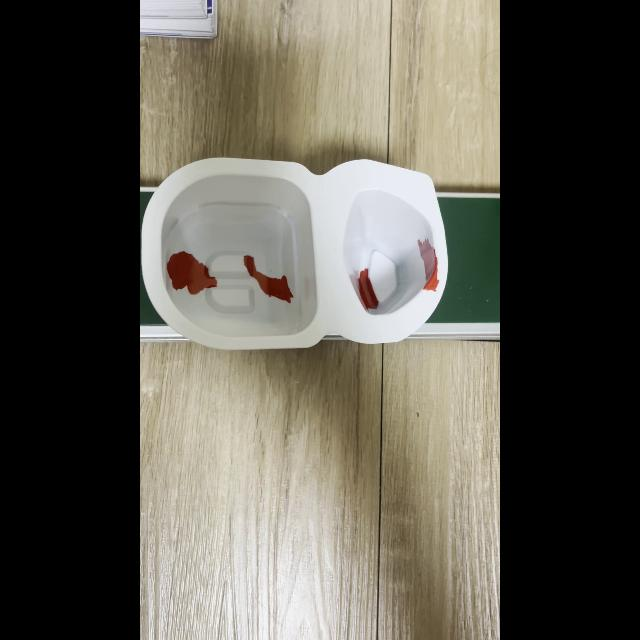dirty: (140, 188, 446, 334)
